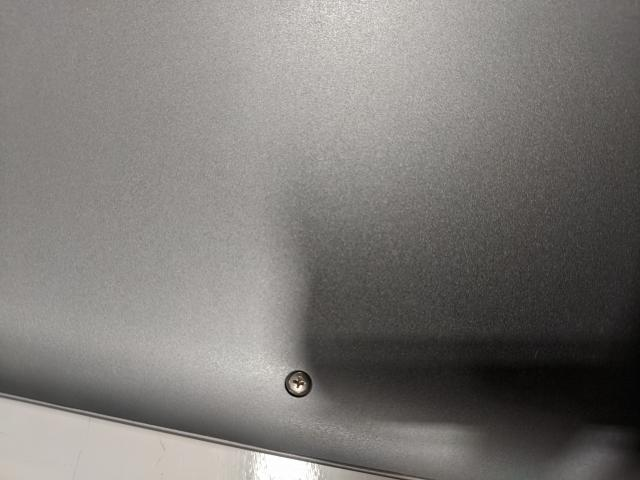CRS: (287, 371, 314, 396)
